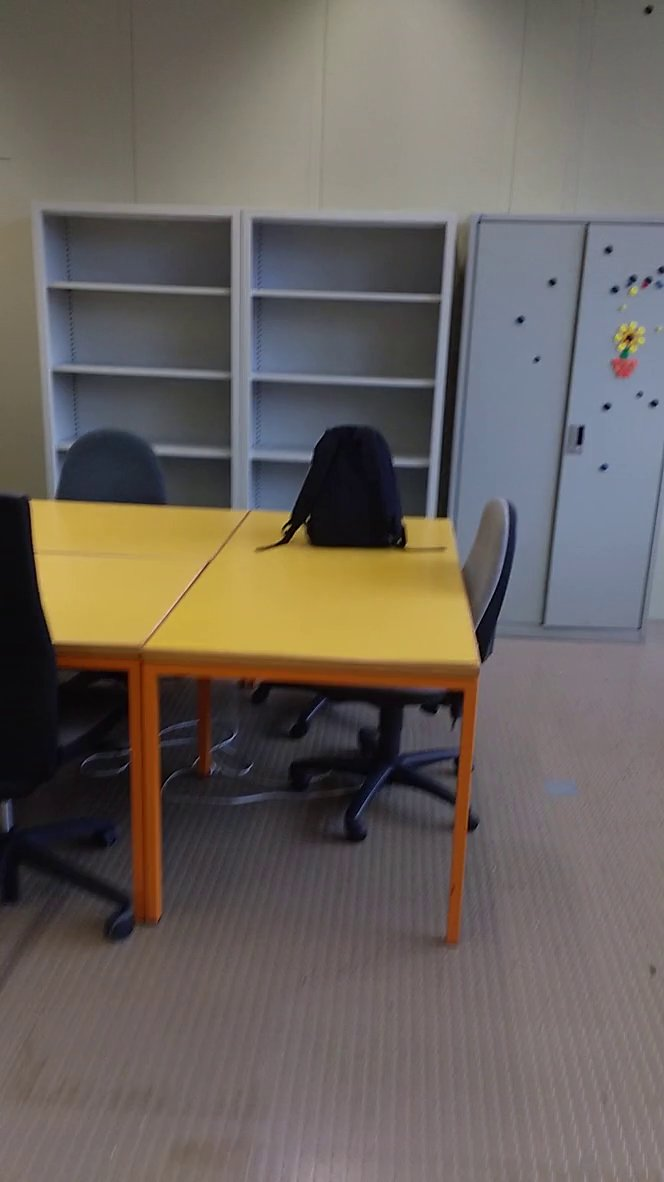bag: (252, 422, 449, 559)
chair: (338, 483, 544, 857), (57, 425, 179, 528)
